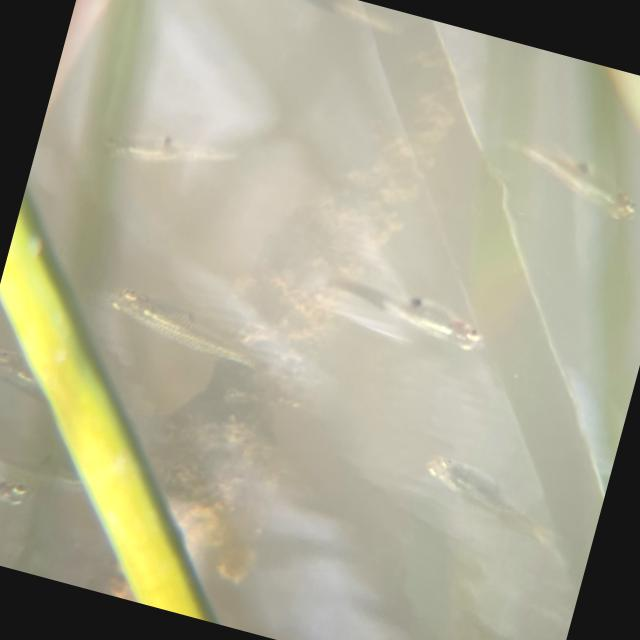Sivrisinek Baligi: (282, 222, 502, 371), (84, 253, 270, 392), (401, 427, 568, 565), (474, 108, 640, 243), (91, 101, 242, 208)
